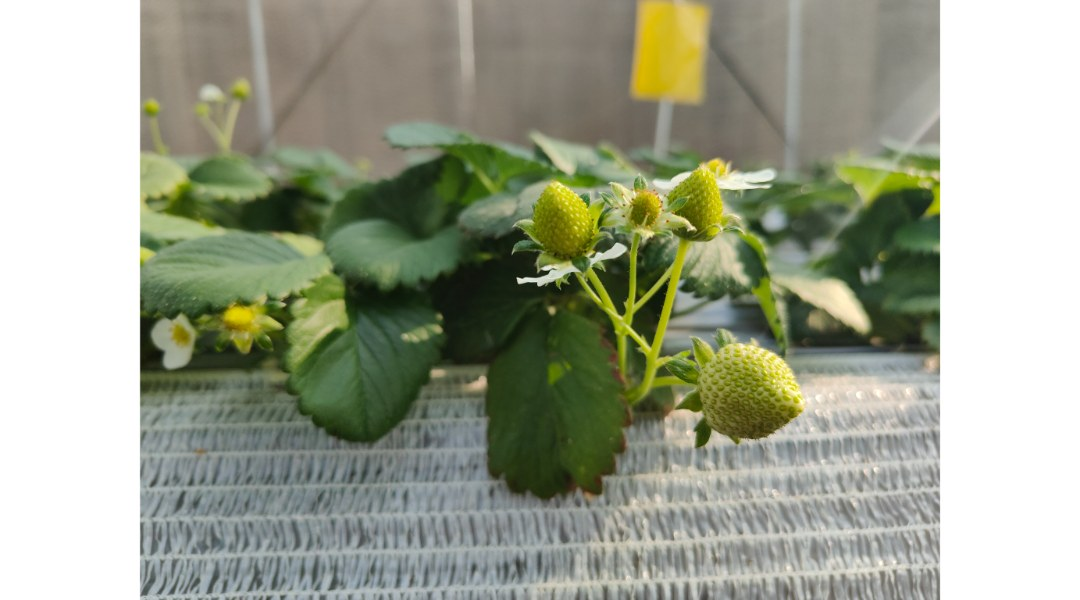berry: (688, 323, 806, 460), (516, 178, 606, 270), (657, 149, 726, 249), (619, 169, 663, 262)
flower: (128, 298, 208, 376)
strain: (631, 247, 687, 412), (636, 271, 667, 304)
